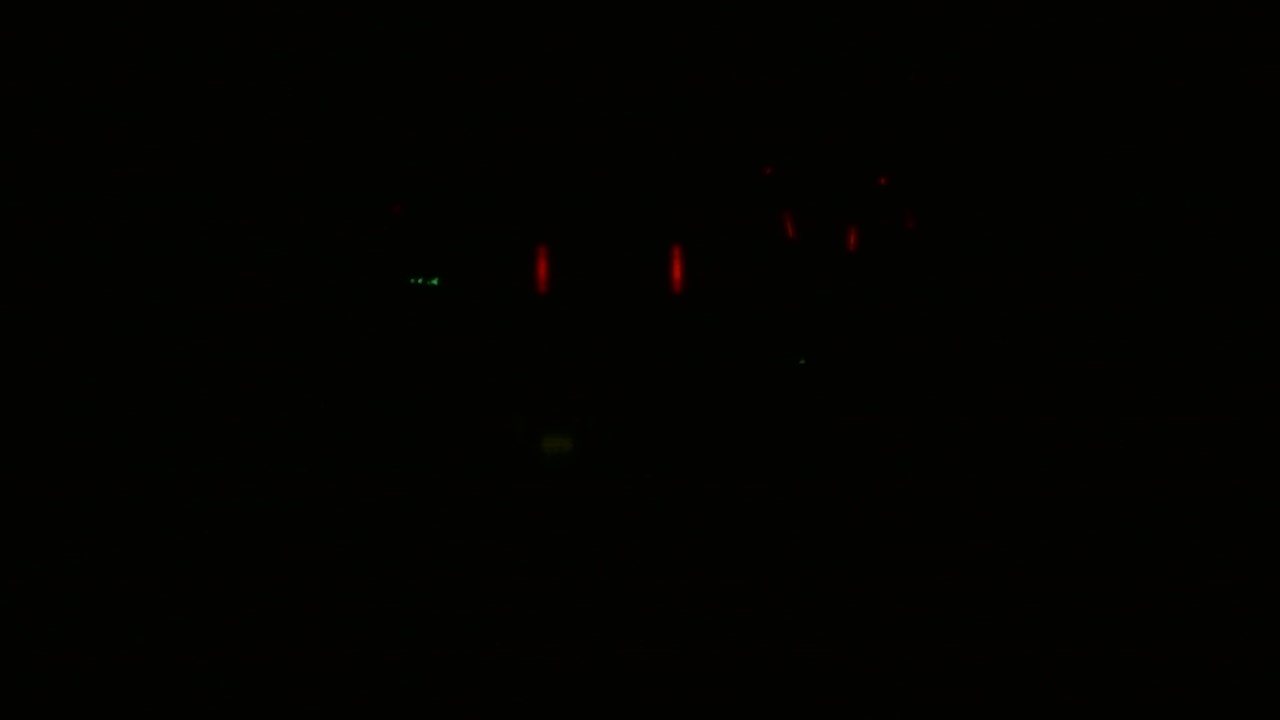pair1: (535, 232, 683, 301), (779, 202, 857, 256)
